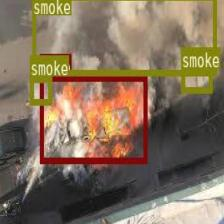fire: (39, 74, 147, 162)
smoke: (32, 0, 216, 74), (181, 68, 212, 92), (29, 76, 51, 103)
